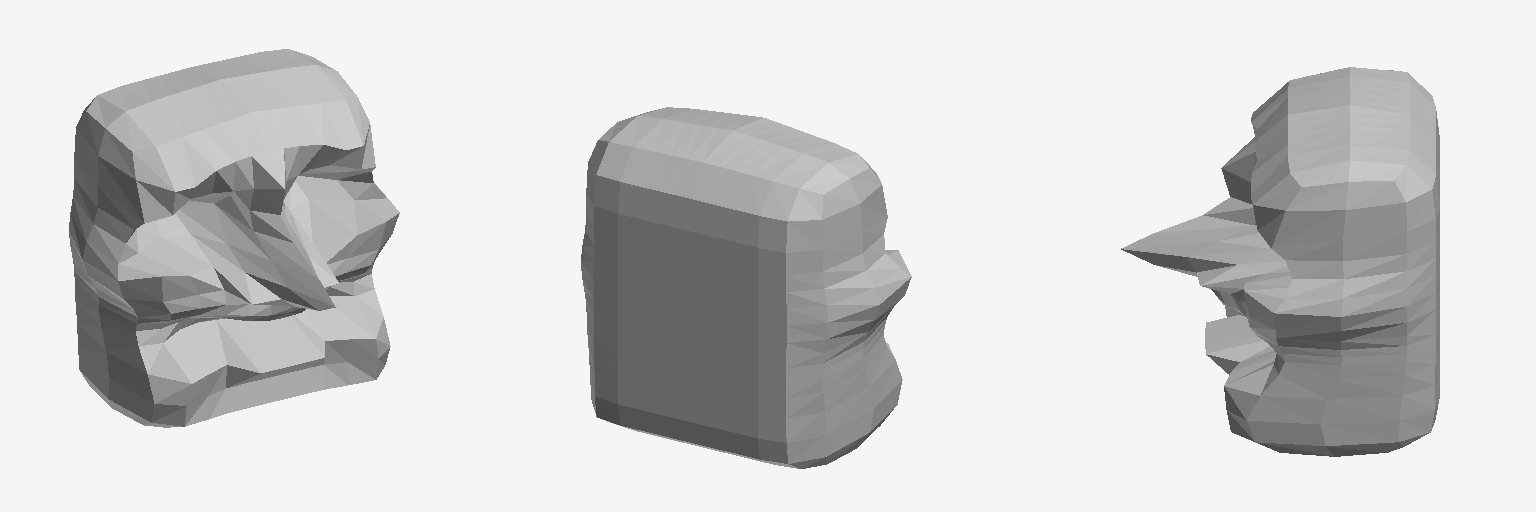
File: deathface.obj
3 views of the same model, side by side, from view 1: azimuth 30°, elevation 25°; view 2: azimuth 150°, elevation 25°; view 3: azimuth 270°, elevation 25° (orthographic).
Visible parts, largest first — view 1: deathface; view 2: deathface; view 3: deathface.
Part boxes in pixels (x1,y1,x2,y2): deathface: (69,49,399,427); deathface: (581,107,911,468); deathface: (1121,67,1439,456).
Bounding box in the file's own units: 0.4957 × 0.5009 × 0.4805.